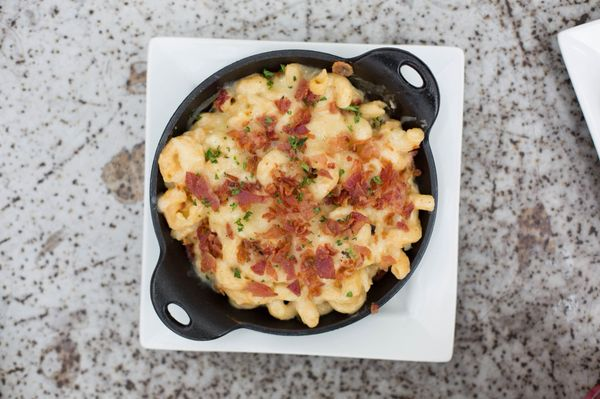curry: (131, 0, 600, 391)
sandwich: (155, 57, 437, 327)
